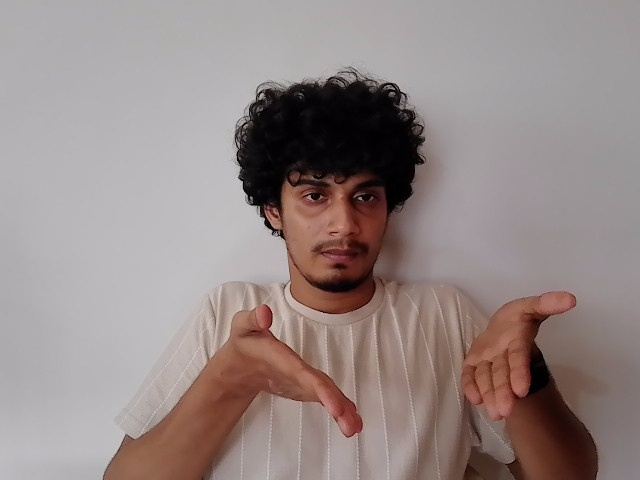here: (230, 292, 577, 422)
